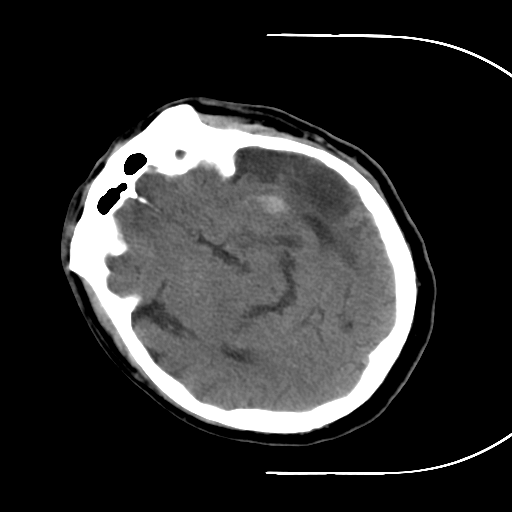a: (218, 170, 313, 235)
